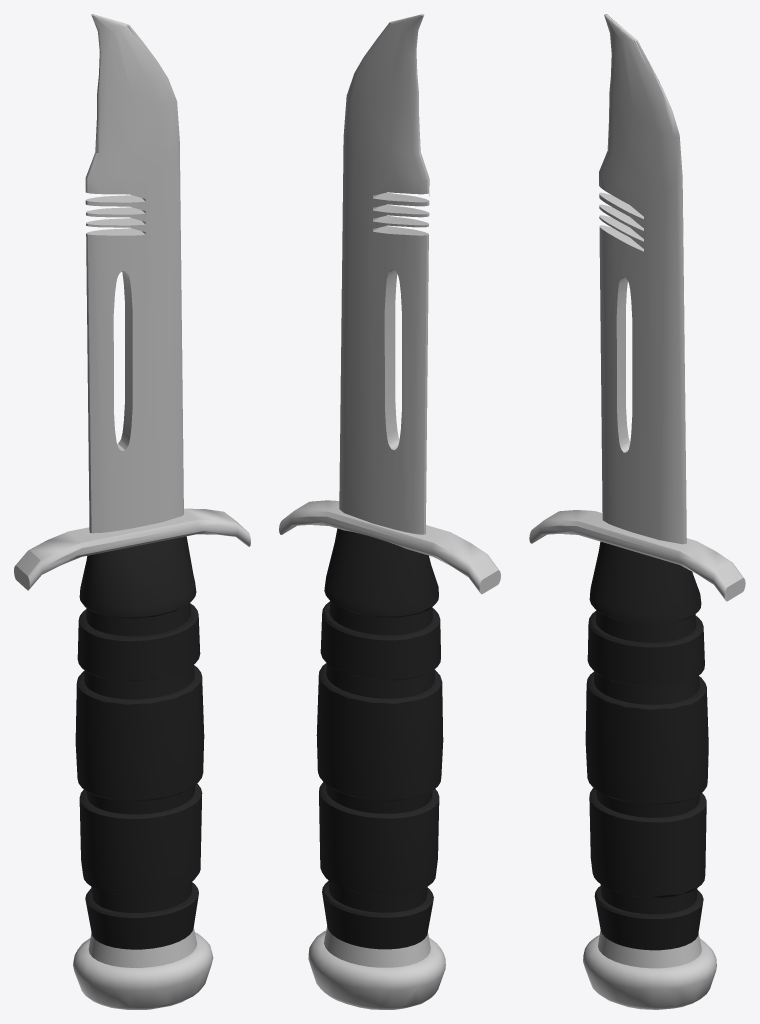
3 renders of one model, left to right at view 1: azimuth 30°, elevation 25°; view 2: azimuth 150°, elevation 25°; view 3: azimuth 330°, elevation 25°, orthographic. The views are drawn at different scales.
Visible parts, largest first — view 1: Knife; view 2: Knife; view 3: Knife.
Boxes of the visible parts, x1,y1,x2,y2 form: Knife: (14,14,250,1009); Knife: (279,14,500,1009); Knife: (529,14,745,1009).
Bounding box in the file's own units: 42.24 × 186 × 21.26.
